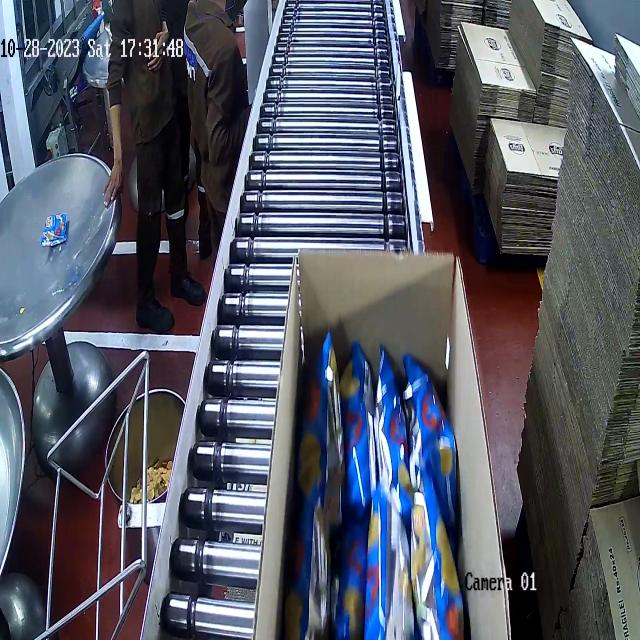PAPRIKA: (303, 303, 474, 640)
